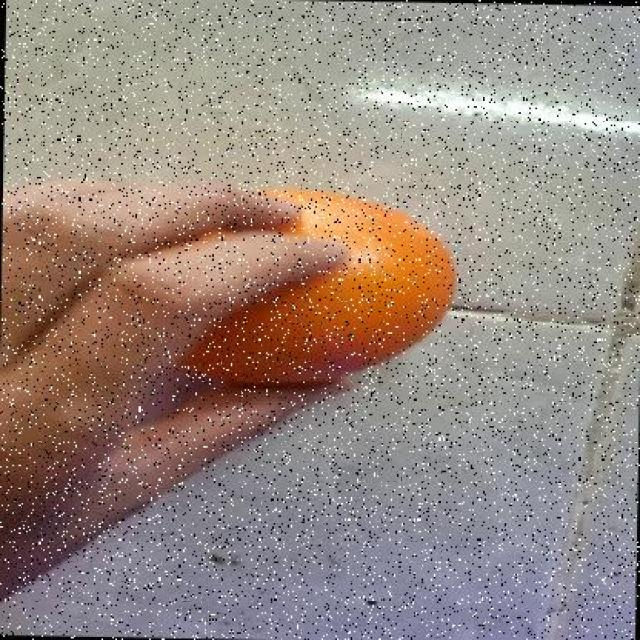Orange: (174, 185, 457, 389)
